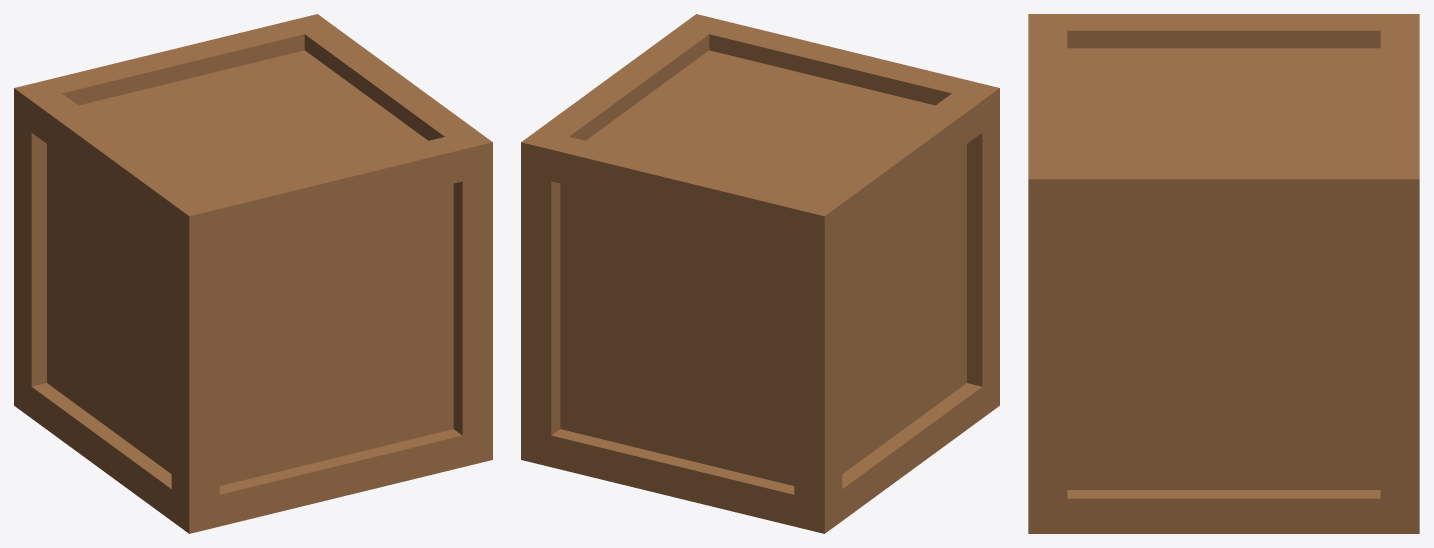
Rendered from crate.glb.
The picture shows the model from 3 angles, left to right: view 1: azimuth 30°, elevation 25°; view 2: azimuth 150°, elevation 25°; view 3: azimuth 270°, elevation 25°; orthographic projection. The views are drawn at different scales.
Parts seen in each view (by area): view 1: crate; view 2: crate; view 3: crate.
Boxes of the visible parts, x1,y1,x2,y2 form: crate: (14,14,492,533); crate: (521,14,999,533); crate: (1028,14,1419,533).
Size of the model in its own units: 1 by 1 by 1.
